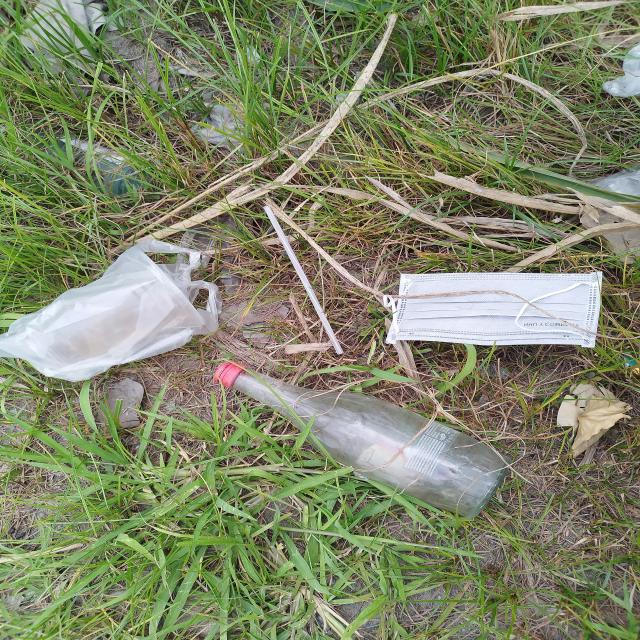bottle: (212, 362, 506, 519)
mask: (385, 272, 603, 348)
trash bag: (0, 235, 222, 378)
